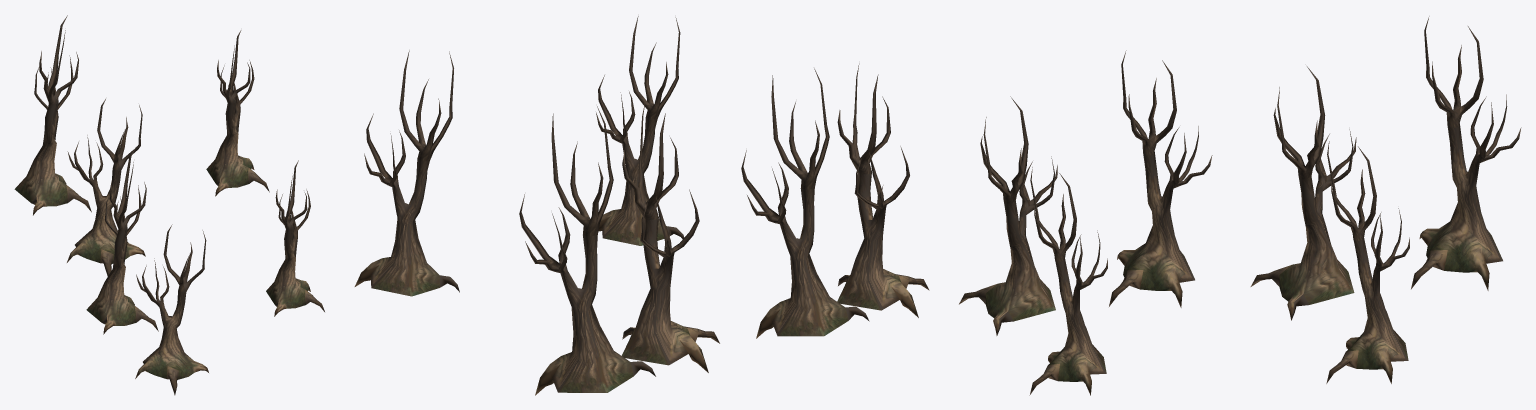
Rendered from menu_plants_tall_tree_trunks205.fbx.
3 renders of one model, left to right at view 1: azimuth 30°, elevation 25°; view 2: azimuth 150°, elevation 25°; view 3: azimuth 270°, elevation 25°, orthographic. The views are drawn at different scales.
Visible parts, largest first — view 1: Material_#238683193/fancy_tree; view 2: Material_#238683193/fancy_tree; view 3: Material_#238683193/fancy_tree.
Part boxes in pixels (box(x1,y1,x2,y2)): Material_#238683193/fancy_tree: box(14, 15, 324, 395); Material_#238683193/fancy_tree: box(354, 16, 929, 395); Material_#238683193/fancy_tree: box(959, 16, 1521, 395).
Size of the model in its own units: 1.69 by 1.52 by 2.34.
